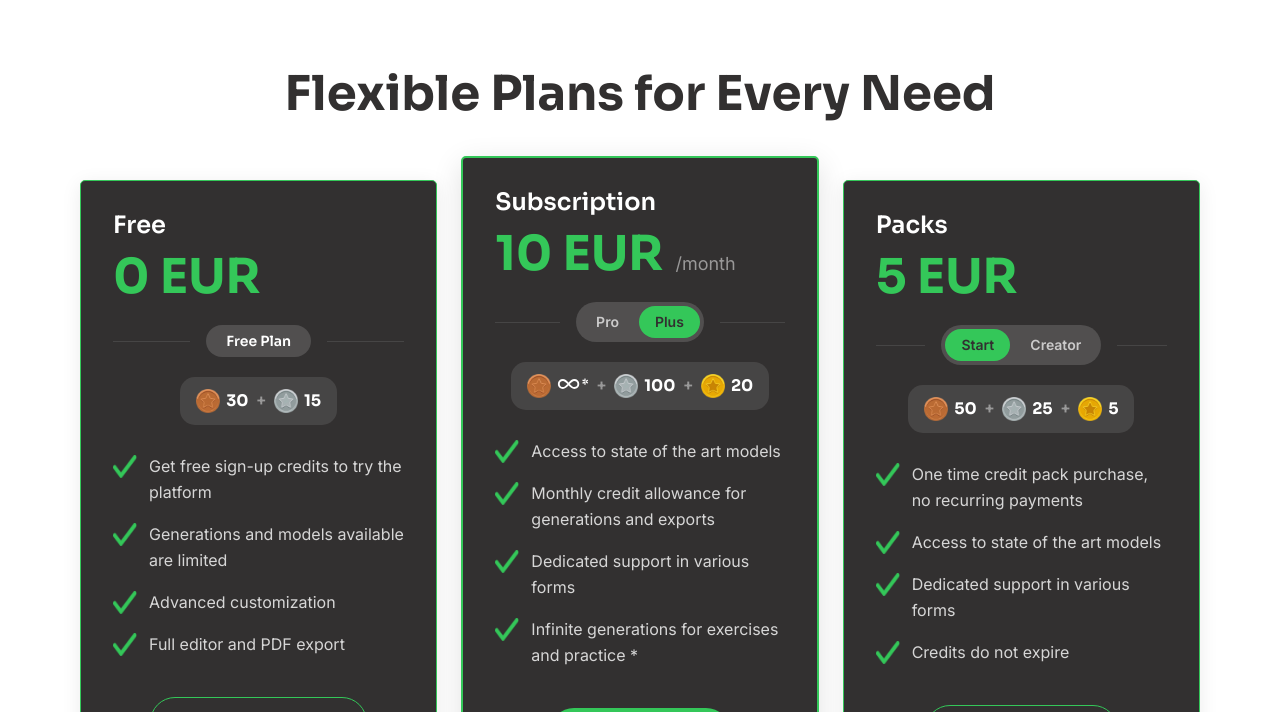
Scenario: public screens › renders pricing plan toggles for anonymous and authenticated users
Expected: the heading "Flexible Plans for Every Need" is shown, [284,63,996,124]
Step 1. Click the button "Pro" → (608, 322), box [580,306,635,338]
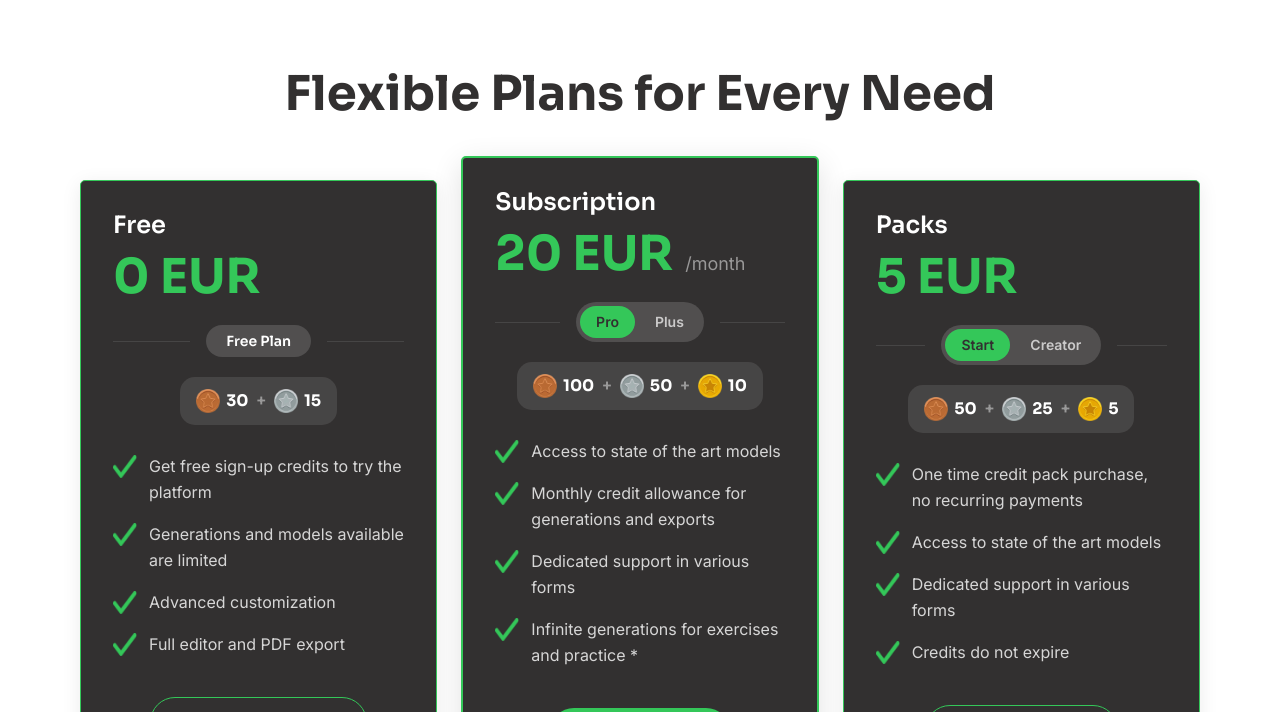
Step 2. Click the button "Creator" → (1056, 345), box [1014,329,1097,361]
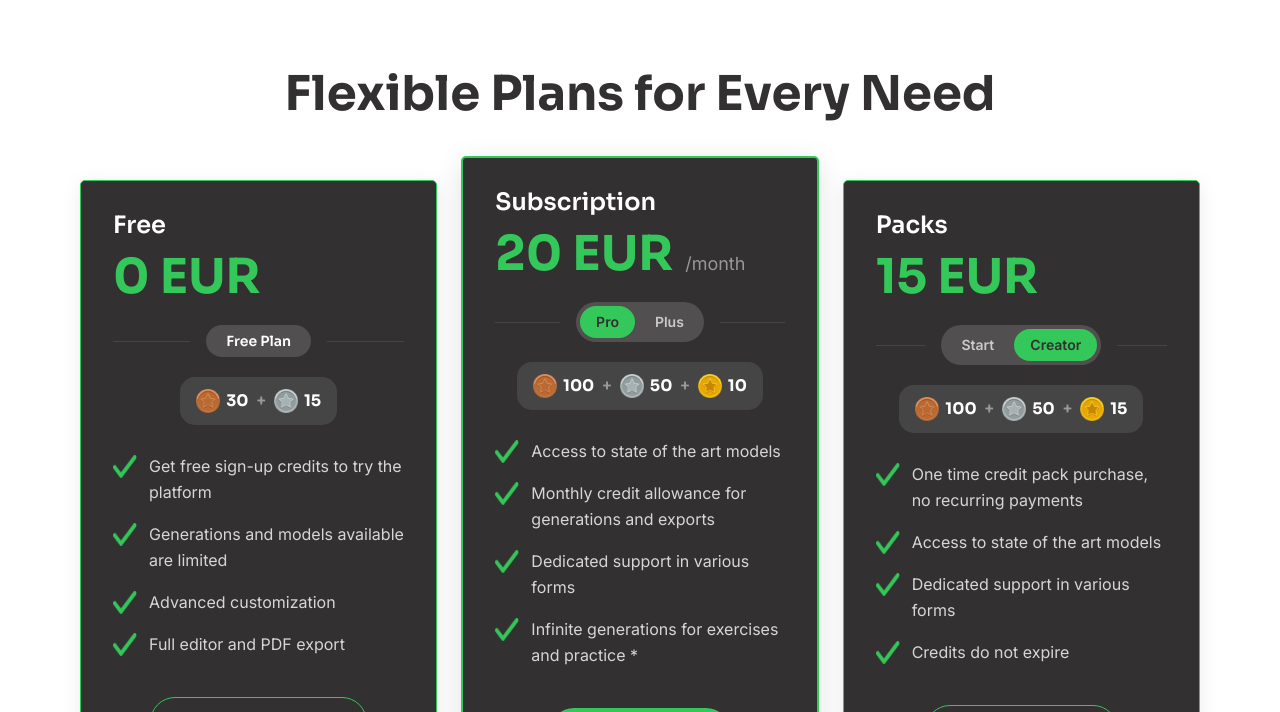
Expected: the text "20 EUR" is shown, [495,230,673,278]
Expected: the text "15 EUR" is shown, [876,253,1038,301]
